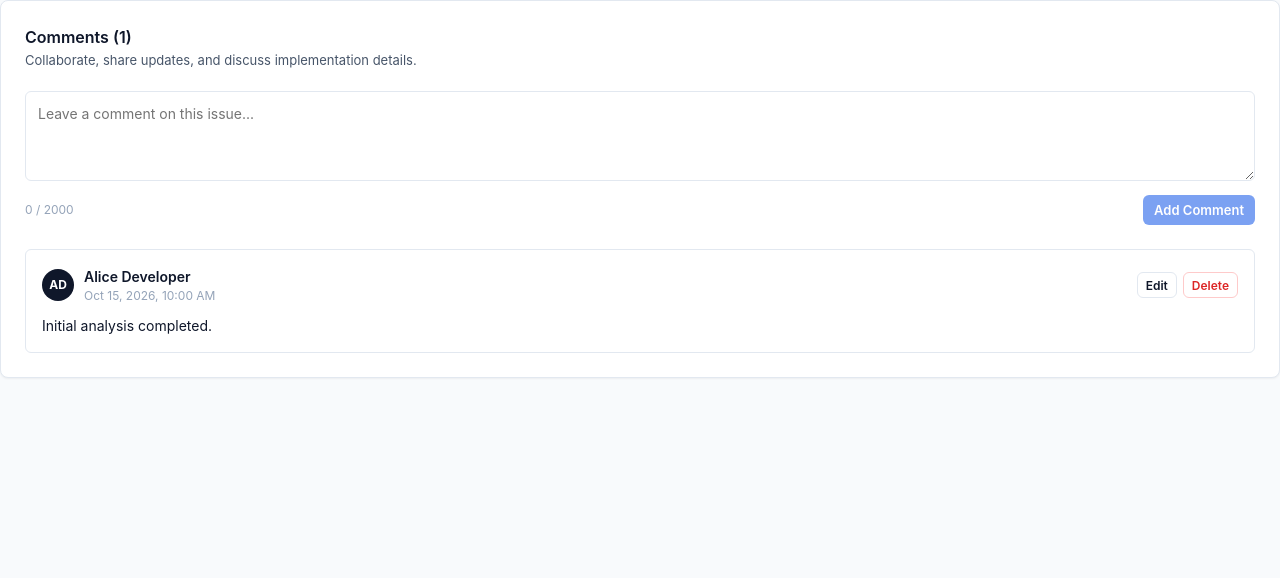
Test: IssueComments Component › submits a new comment and appends it to the list
Expected: the text "Initial analysis completed." is shown, [42,316,212,334]
In the text box with placeholder "Leave a comment on this issue...": {"x": 640, "y": 136} [25,90,1255,180], type "PR has been submitted for review."
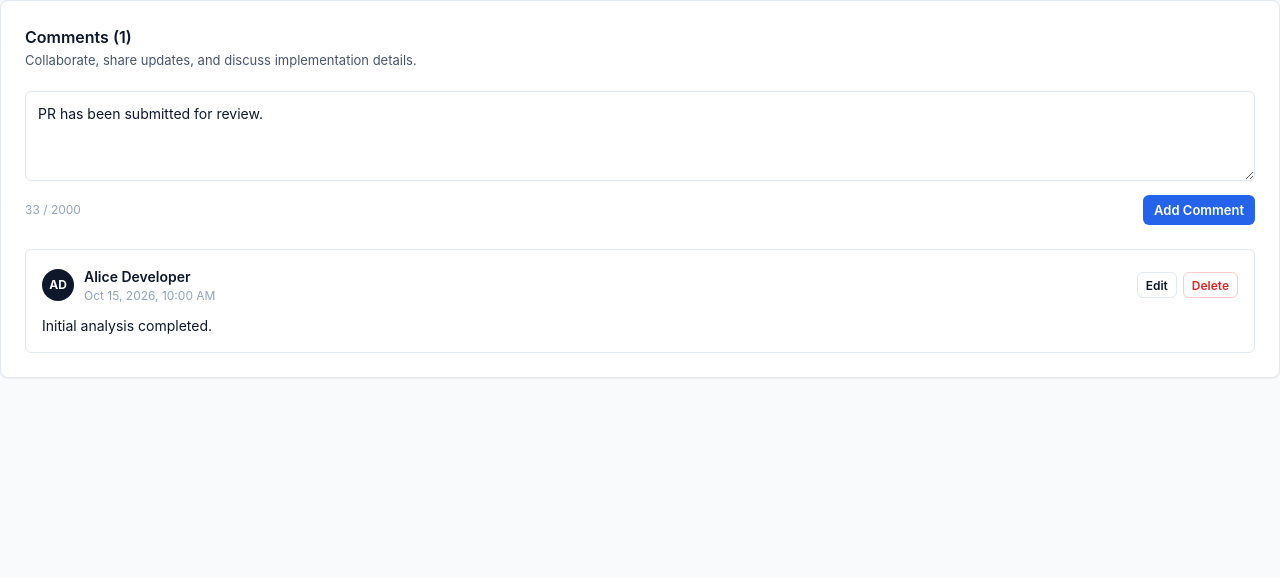
Click the button "Add Comment": {"x": 1199, "y": 210} [1143,194,1255,224]
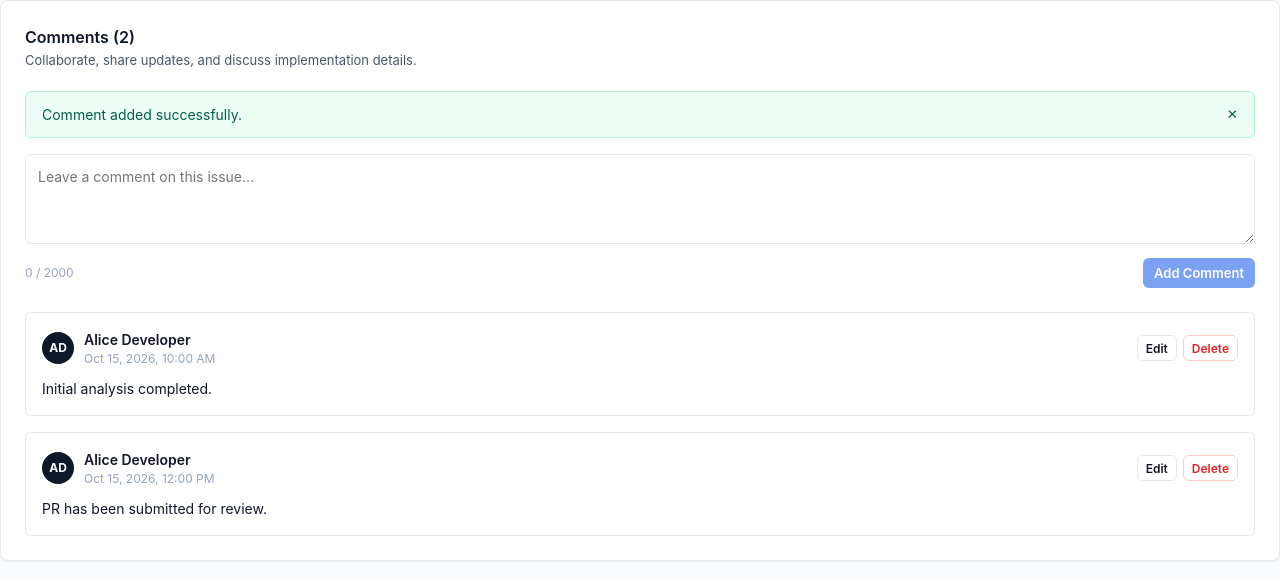
Now the text "Comment added successfully." is shown, box [42,104,242,124]
Now the text "PR has been submitted for review." is shown, box [42,500,267,516]
Now the heading "Comments (2)" is shown, box [25,27,135,47]
